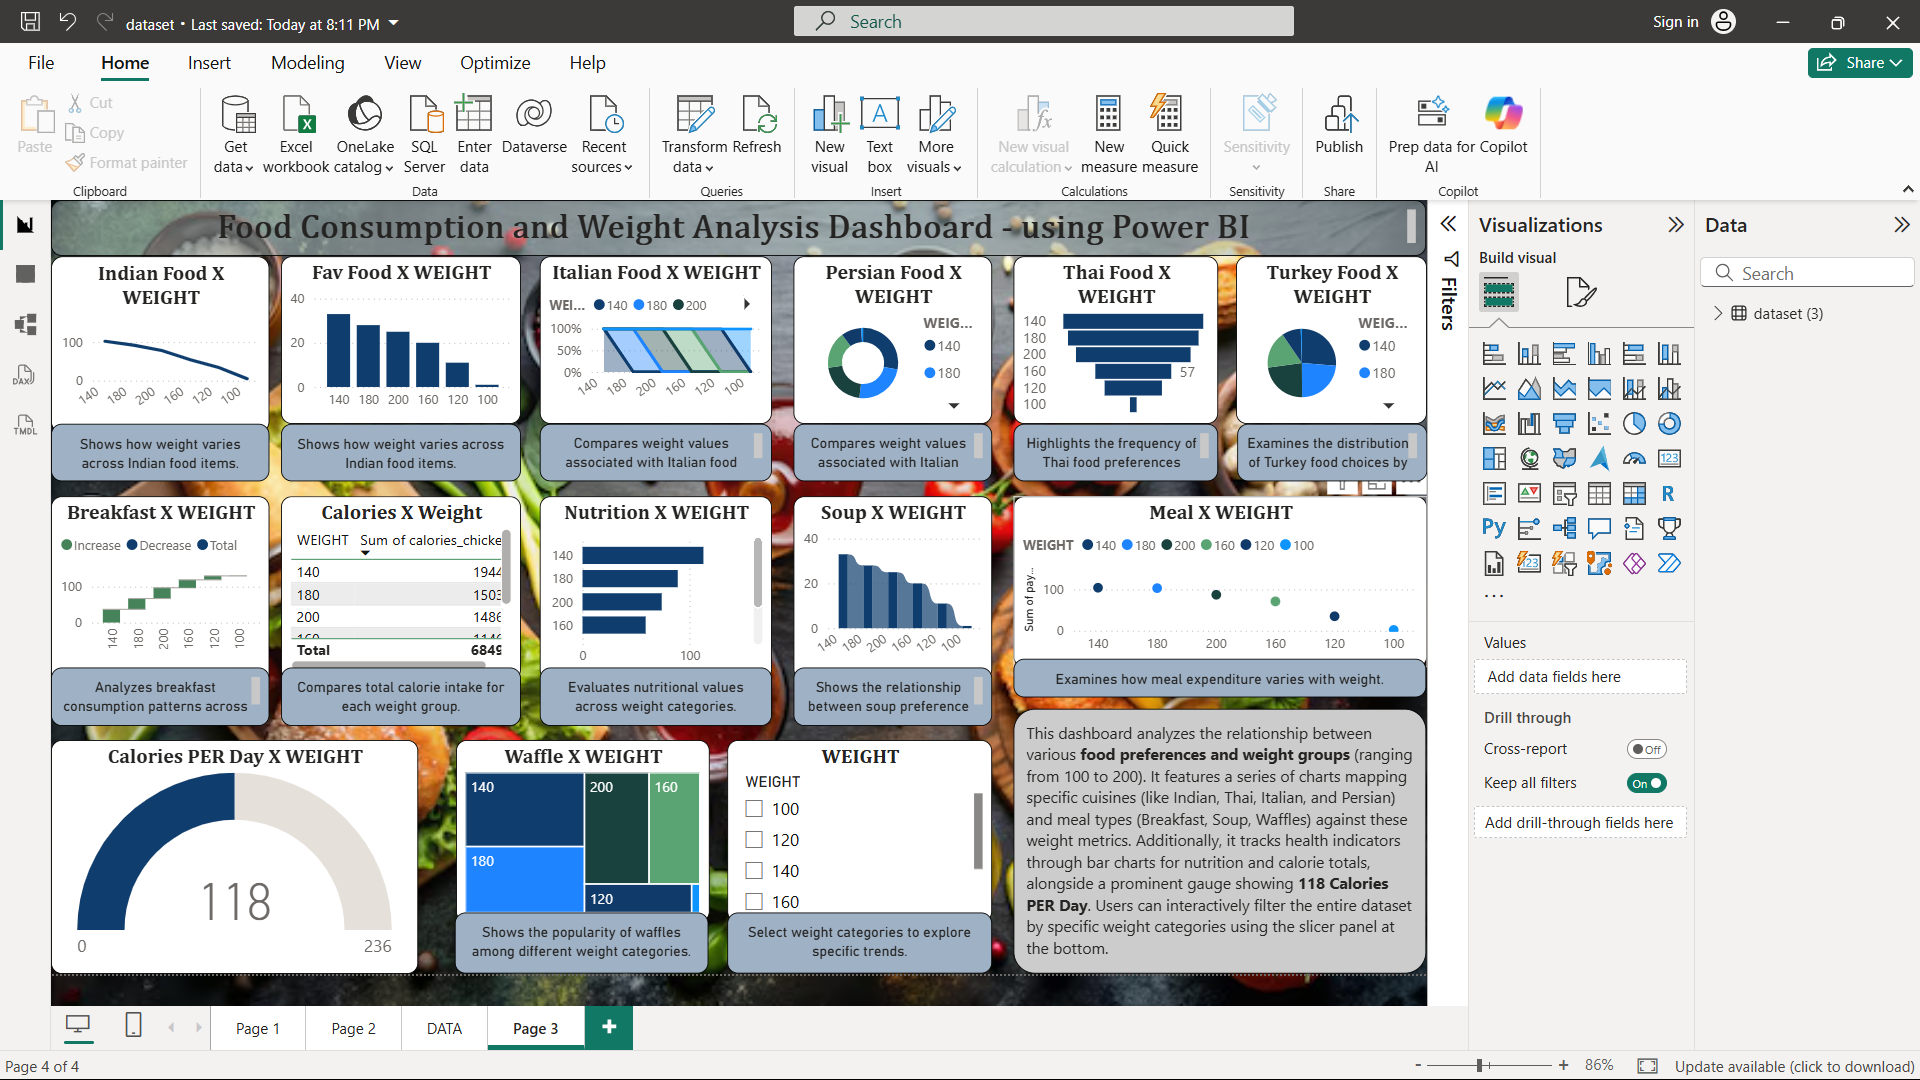

This screenshot's page, from the dashboard's own definition file:
{"tool":"powerbi","page":{"name":"Page 3","canvas":[1280,720],"ordinal":3},"visuals":[{"type":"waterfallChart","title":"Breakfast X WEIGHT","fields":{"Category":["dataset (3).WEIGHT"],"Y":["Sum(dataset (3).breakfast)"]},"box":[0,275.6,203.5,176.7],"z":0},{"type":"tableEx","title":"Calories X Weight","fields":{"Values":["dataset (3).WEIGHT","Sum(dataset (3).calories_chicken)"]},"box":[214,275.6,223.3,170.9],"z":1000},{"type":"gauge","title":"Calories PER Day X WEIGHT","fields":{"Y":["CountNonNull(dataset (3).calories_day)"]},"box":[0,502.3,341.9,217.4],"z":2000},{"type":"columnChart","title":"Fav Food X WEIGHT","fields":{"Category":["dataset (3).WEIGHT"],"Y":["CountNonNull(dataset (3).fav_food)"]},"box":[214,52.3,223.3,155.8],"z":3000},{"type":"lineChart","title":"Indian Food X WEIGHT","fields":{"Category":["dataset (3).WEIGHT"],"Y":["Sum(dataset (3).indian_food)"]},"box":[0,52.3,203.5,165.1],"z":4000},{"type":"hundredPercentStackedAreaChart","title":"Italian Food X WEIGHT","fields":{"Category":["dataset (3).WEIGHT"],"Y":["Sum(dataset (3).italian_food)"],"Series":["dataset (3).WEIGHT"]},"box":[454.7,52.3,216.3,155.8],"z":5000},{"type":"barChart","title":"Nutrition X WEIGHT","fields":{"Category":["dataset (3).WEIGHT"],"Y":["Sum(dataset (3).nutritional_check)"]},"box":[454.7,275.6,216.3,170.9],"z":6000},{"type":"stackedAreaChart","title":"Meal X WEIGHT","fields":{"Category":["dataset (3).WEIGHT"],"Y":["Sum(dataset (3).pay_meal_out)"],"Series":["dataset (3).WEIGHT"]},"box":[895.4,275.6,384.9,159.3],"z":7000},{"type":"donutChart","title":"Persian Food X WEIGHT","fields":{"Y":["CountNonNull(dataset (3).persian_food)"],"Category":["dataset (3).WEIGHT"]},"box":[690.7,52.3,184.9,155.8],"z":8000},{"type":"ribbonChart","title":"Soup X WEIGHT","fields":{"Category":["dataset (3).WEIGHT"],"Y":["CountNonNull(dataset (3).soup)"]},"box":[690.7,275.6,184.9,170.9],"z":9000},{"type":"funnel","title":"Thai Food X WEIGHT","fields":{"Category":["dataset (3).WEIGHT"],"Y":["Sum(dataset (3).thai_food)"]},"box":[895.4,52.3,190.7,155.8],"z":10000},{"type":"pieChart","title":"Turkey Food X WEIGHT","fields":{"Y":["Sum(dataset (3).turkey_calories)"],"Category":["dataset (3).WEIGHT"]},"box":[1102.3,52.3,177.9,155.8],"z":11000},{"type":"treemap","title":"Waffle X WEIGHT","fields":{"Group":["dataset (3).WEIGHT"],"Values":["Sum(dataset (3).waffle_calories)"]},"box":[376.7,502.3,236,169.8],"z":12000},{"type":"slicer","title":"WEIGHT","fields":{"Values":["dataset (3).WEIGHT"]},"box":[629.1,502.3,246.5,169.8],"z":13000},{"type":"textbox","box":[0,208.1,203.5,53.5],"z":14000},{"type":"textbox","box":[214,208.1,223.3,53.5],"z":15000},{"type":"textbox","box":[454.7,208.1,216.3,53.5],"z":16000},{"type":"textbox","box":[690.7,208.1,184.9,53.5],"z":17000},{"type":"textbox","box":[895.4,208.1,190.7,53.5],"z":18000},{"type":"textbox","box":[1103.5,208.1,176.7,53.5],"z":19000},{"type":"textbox","box":[214,434.9,223.3,54.7],"z":20000},{"type":"textbox","box":[454.7,434.9,216.3,54.7],"z":21000},{"type":"textbox","box":[690.7,434.9,184.9,54.7],"z":22000},{"type":"textbox","box":[895.4,426.7,383.7,36],"z":23000},{"type":"textbox","box":[0,434.9,203.5,54.7],"z":24000},{"type":"textbox","box":[629.1,662.8,246.5,57],"z":25000},{"type":"textbox","box":[375.6,662.8,236,57],"z":26000},{"type":"textbox","box":[895.4,473.3,383.7,246.5],"z":27000},{"type":"textbox","box":[0,0,1279.1,52.3],"z":28000}]}

Visuals, with their boxes on the page's 1280x720 design canvas (x1, y1, x2, y2). These are canvas units, not pixel positions in the 1920x1080 screenshot, which may show the page scaled, cropped or inside an application window:
"Breakfast X WEIGHT" waterfallChart: region(0, 276, 204, 452)
"Calories X Weight" tableEx: region(214, 276, 437, 446)
"Calories PER Day X WEIGHT" gauge: region(0, 502, 342, 720)
"Fav Food X WEIGHT" columnChart: region(214, 52, 437, 208)
"Indian Food X WEIGHT" lineChart: region(0, 52, 204, 217)
"Italian Food X WEIGHT" hundredPercentStackedAreaChart: region(455, 52, 671, 208)
"Nutrition X WEIGHT" barChart: region(455, 276, 671, 446)
"Meal X WEIGHT" stackedAreaChart: region(895, 276, 1280, 435)
"Persian Food X WEIGHT" donutChart: region(691, 52, 876, 208)
"Soup X WEIGHT" ribbonChart: region(691, 276, 876, 446)
"Thai Food X WEIGHT" funnel: region(895, 52, 1086, 208)
"Turkey Food X WEIGHT" pieChart: region(1102, 52, 1280, 208)
"Waffle X WEIGHT" treemap: region(377, 502, 613, 672)
"WEIGHT" slicer: region(629, 502, 876, 672)
textbox: region(0, 208, 204, 262)
textbox: region(214, 208, 437, 262)
textbox: region(455, 208, 671, 262)
textbox: region(691, 208, 876, 262)
textbox: region(895, 208, 1086, 262)
textbox: region(1104, 208, 1280, 262)
textbox: region(214, 435, 437, 490)
textbox: region(455, 435, 671, 490)
textbox: region(691, 435, 876, 490)
textbox: region(895, 427, 1279, 463)
textbox: region(0, 435, 204, 490)
textbox: region(629, 663, 876, 720)
textbox: region(376, 663, 612, 720)
textbox: region(895, 473, 1279, 720)
textbox: region(0, 0, 1279, 52)
